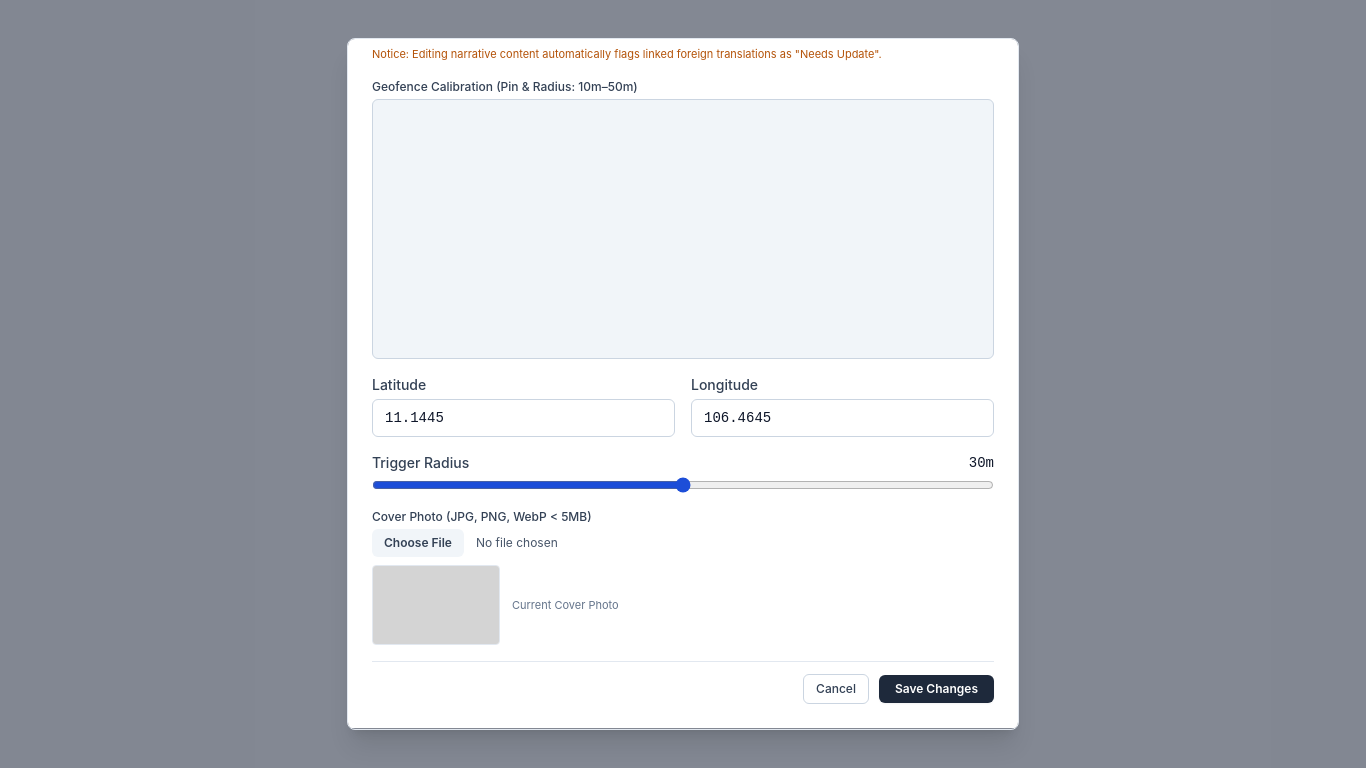
POIFormModal › displays error alert when updatePoi rejects
(page scrolled)
Click the button "Save Changes". click: (936, 689)
box: [879,675,994,703]
(page scrolled)
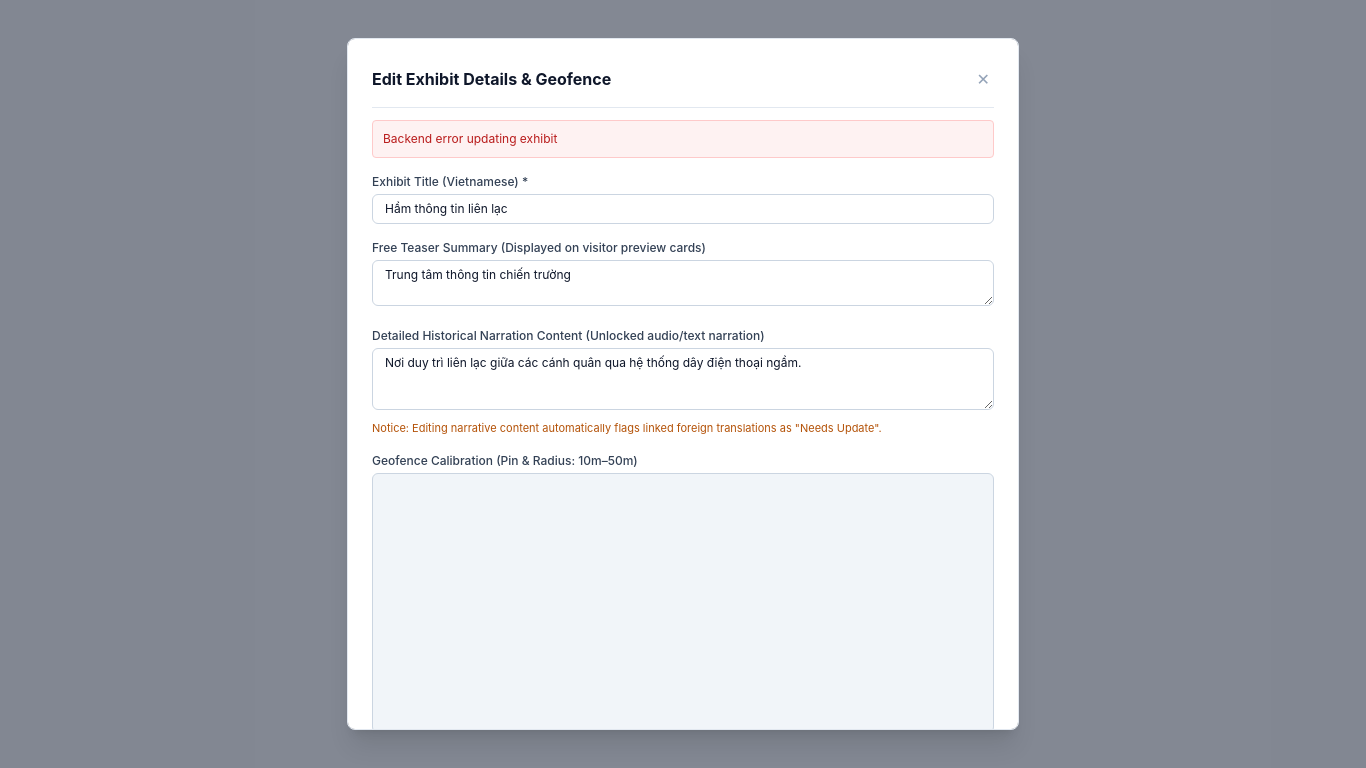
Check: the message reads "Backend error updating exhibit", box [383,131,557,146]
